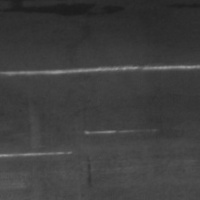inclusion: (82, 152, 96, 190)
scratches: (1, 56, 199, 85), (3, 146, 73, 161), (82, 123, 157, 136)
